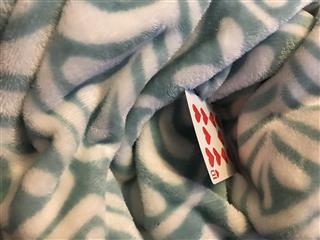TenOfHearts: (183, 88, 236, 185)
